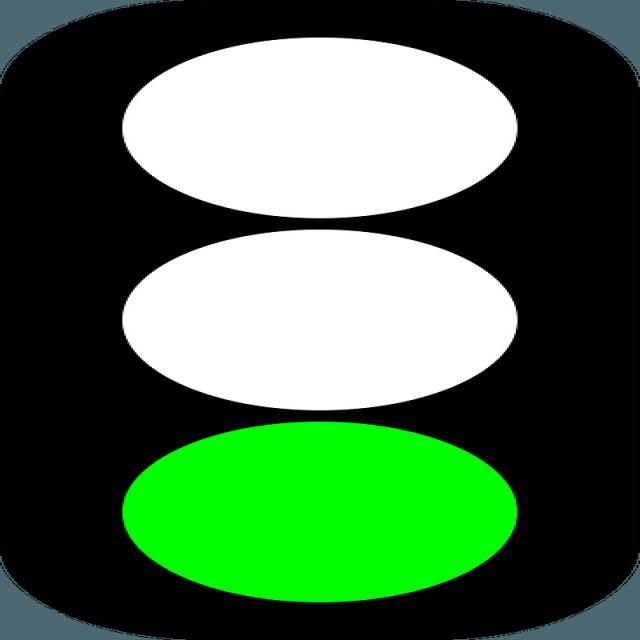green: (117, 412, 558, 605)
